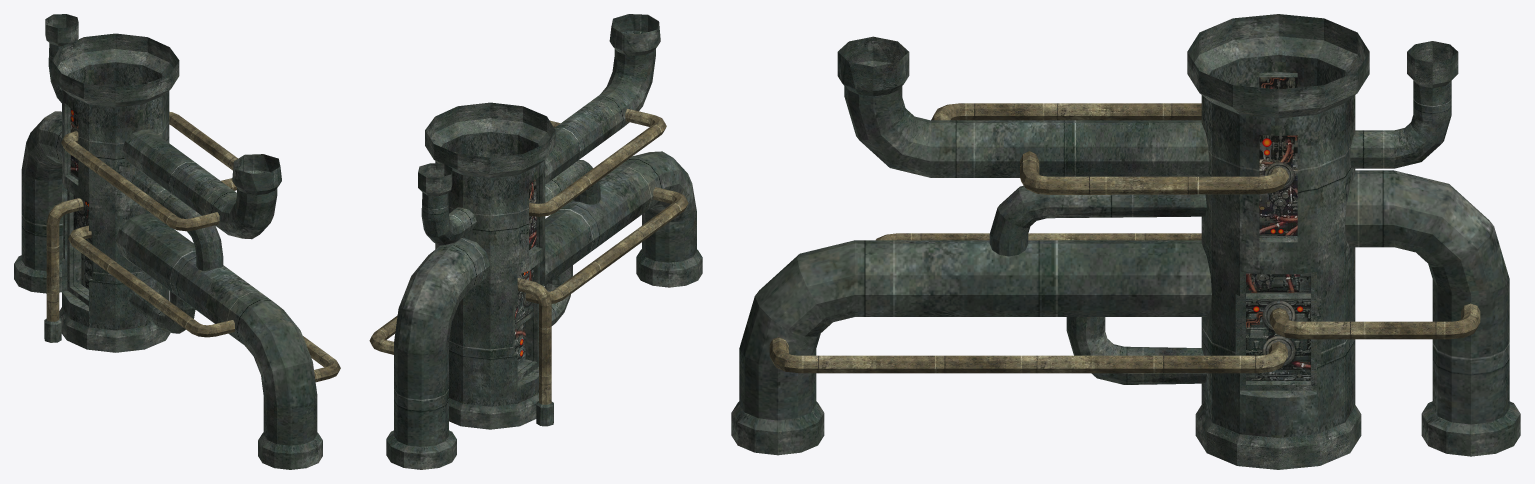
File: bunker_mine_pipes_s01_l1.fbx
3 renders of one model, left to right at view 1: azimuth 30°, elevation 25°; view 2: azimuth 150°, elevation 25°; view 3: azimuth 270°, elevation 25°, orthographic. The views are drawn at different scales.
Visible parts, largest first — view 1: mesh_node; view 2: mesh_node; view 3: mesh_node.
Part boxes in pixels (left/top/right/bottom): mesh_node: left=14, top=14, right=340, bottom=469; mesh_node: left=369, top=14, right=702, bottom=469; mesh_node: left=731, top=14, right=1520, bottom=469.
Bounding box in the file's own units: 2.68 × 5.5 × 10.24.
